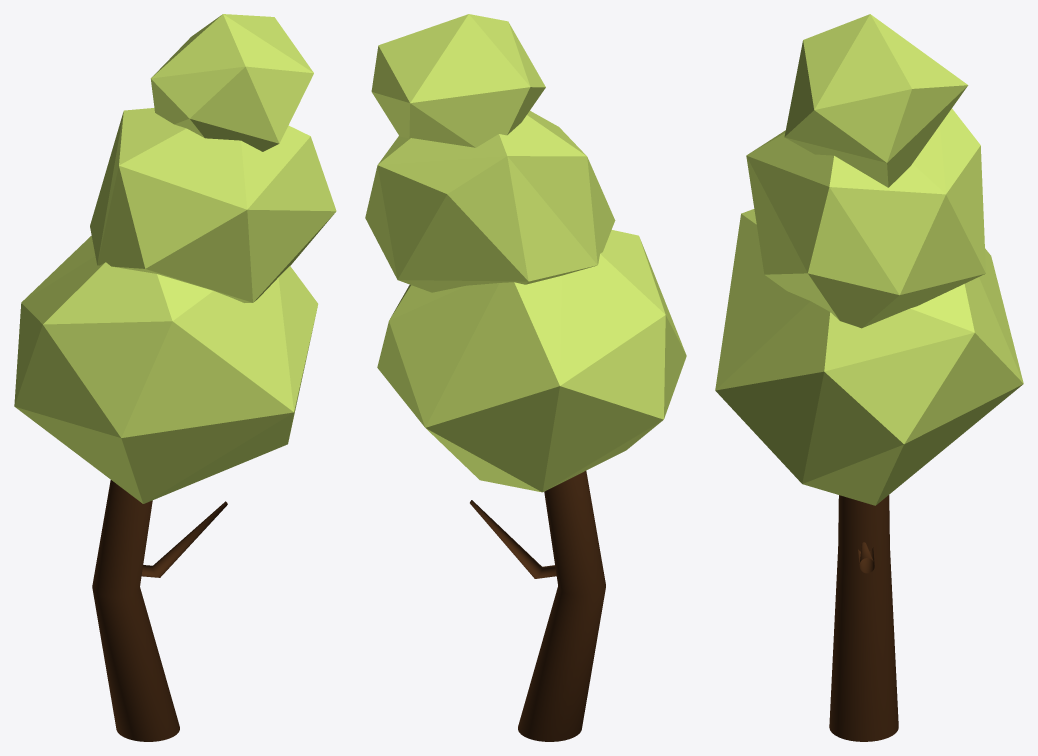
File: tree.glb
The picture shows the model from 3 angles, left to right: view 1: azimuth 30°, elevation 25°; view 2: azimuth 150°, elevation 25°; view 3: azimuth 270°, elevation 25°; orthographic projection. The views are drawn at different scales.
Parts seen in each view (by area): view 1: tree; view 2: tree; view 3: tree.
Part boxes in pixels (x1,y1,x2,y2): tree: (14,14,336,741); tree: (365,14,686,741); tree: (715,14,1023,741).
Size of the model in its own units: 2.51 by 5.72 by 2.12.
